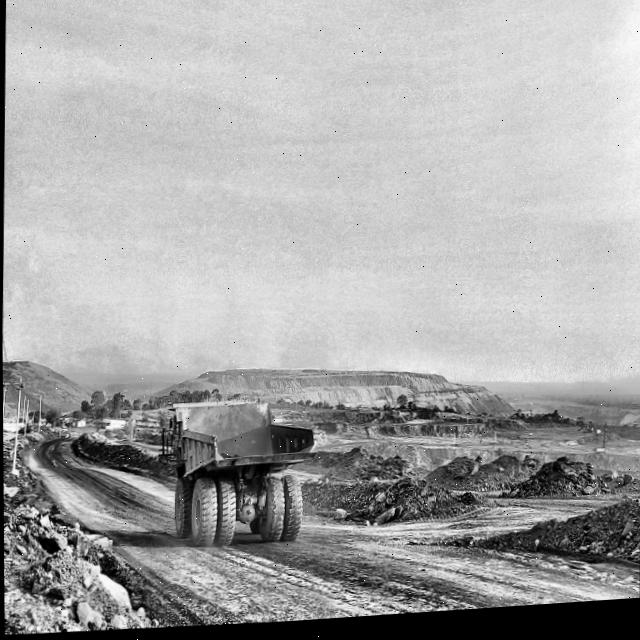dump_truck: (158, 399, 315, 548)
